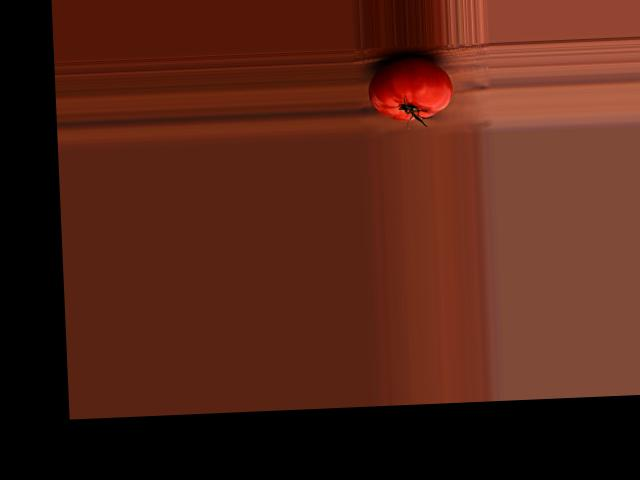tomato: (368, 54, 454, 122)
